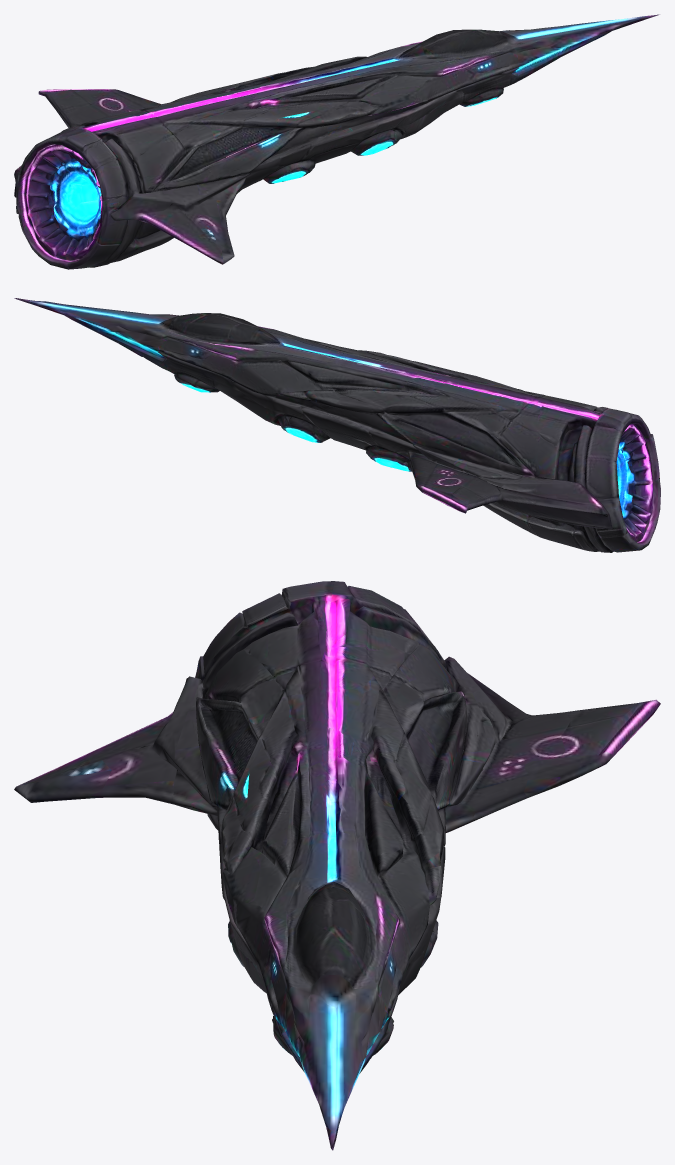
The model's file is car-c.glb.
3 views of the same model, one above another, from view 1: azimuth 30°, elevation 25°; view 2: azimuth 150°, elevation 25°; view 3: azimuth 270°, elevation 25° (orthographic). The views are drawn at different scales.
Parts seen in each view (by area): view 1: SM_car_c; view 2: SM_car_c; view 3: SM_car_c.
Boxes of the visible parts, bbox=[...] form: SM_car_c: bbox=[14, 14, 659, 269]; SM_car_c: bbox=[14, 298, 660, 552]; SM_car_c: bbox=[14, 581, 660, 1150].
Size of the model in its own units: 0.9816 by 0.2046 by 0.4862.
1 material, 1 textured.
